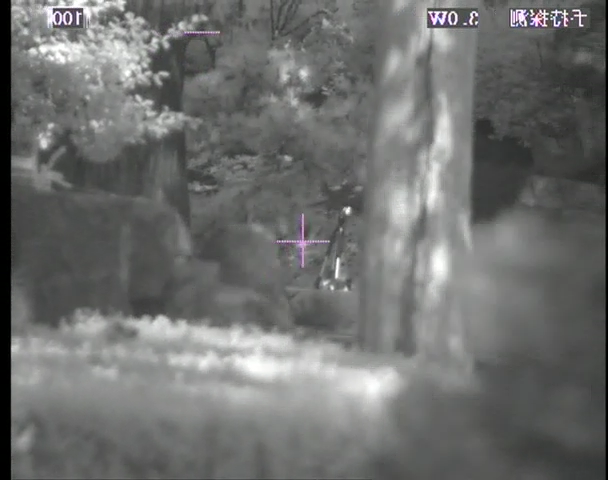my: (342, 206, 352, 216)
